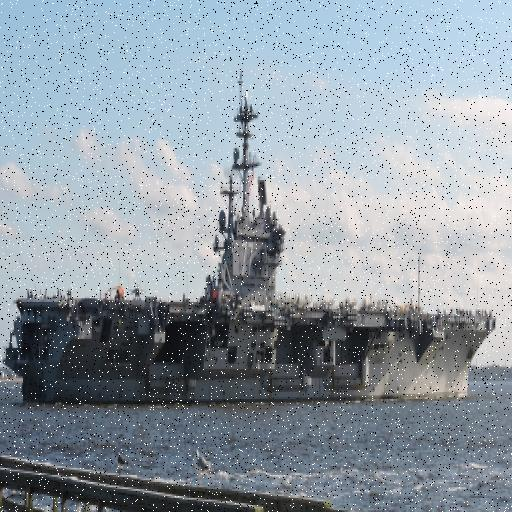Portanaves: (5, 52, 500, 414)
